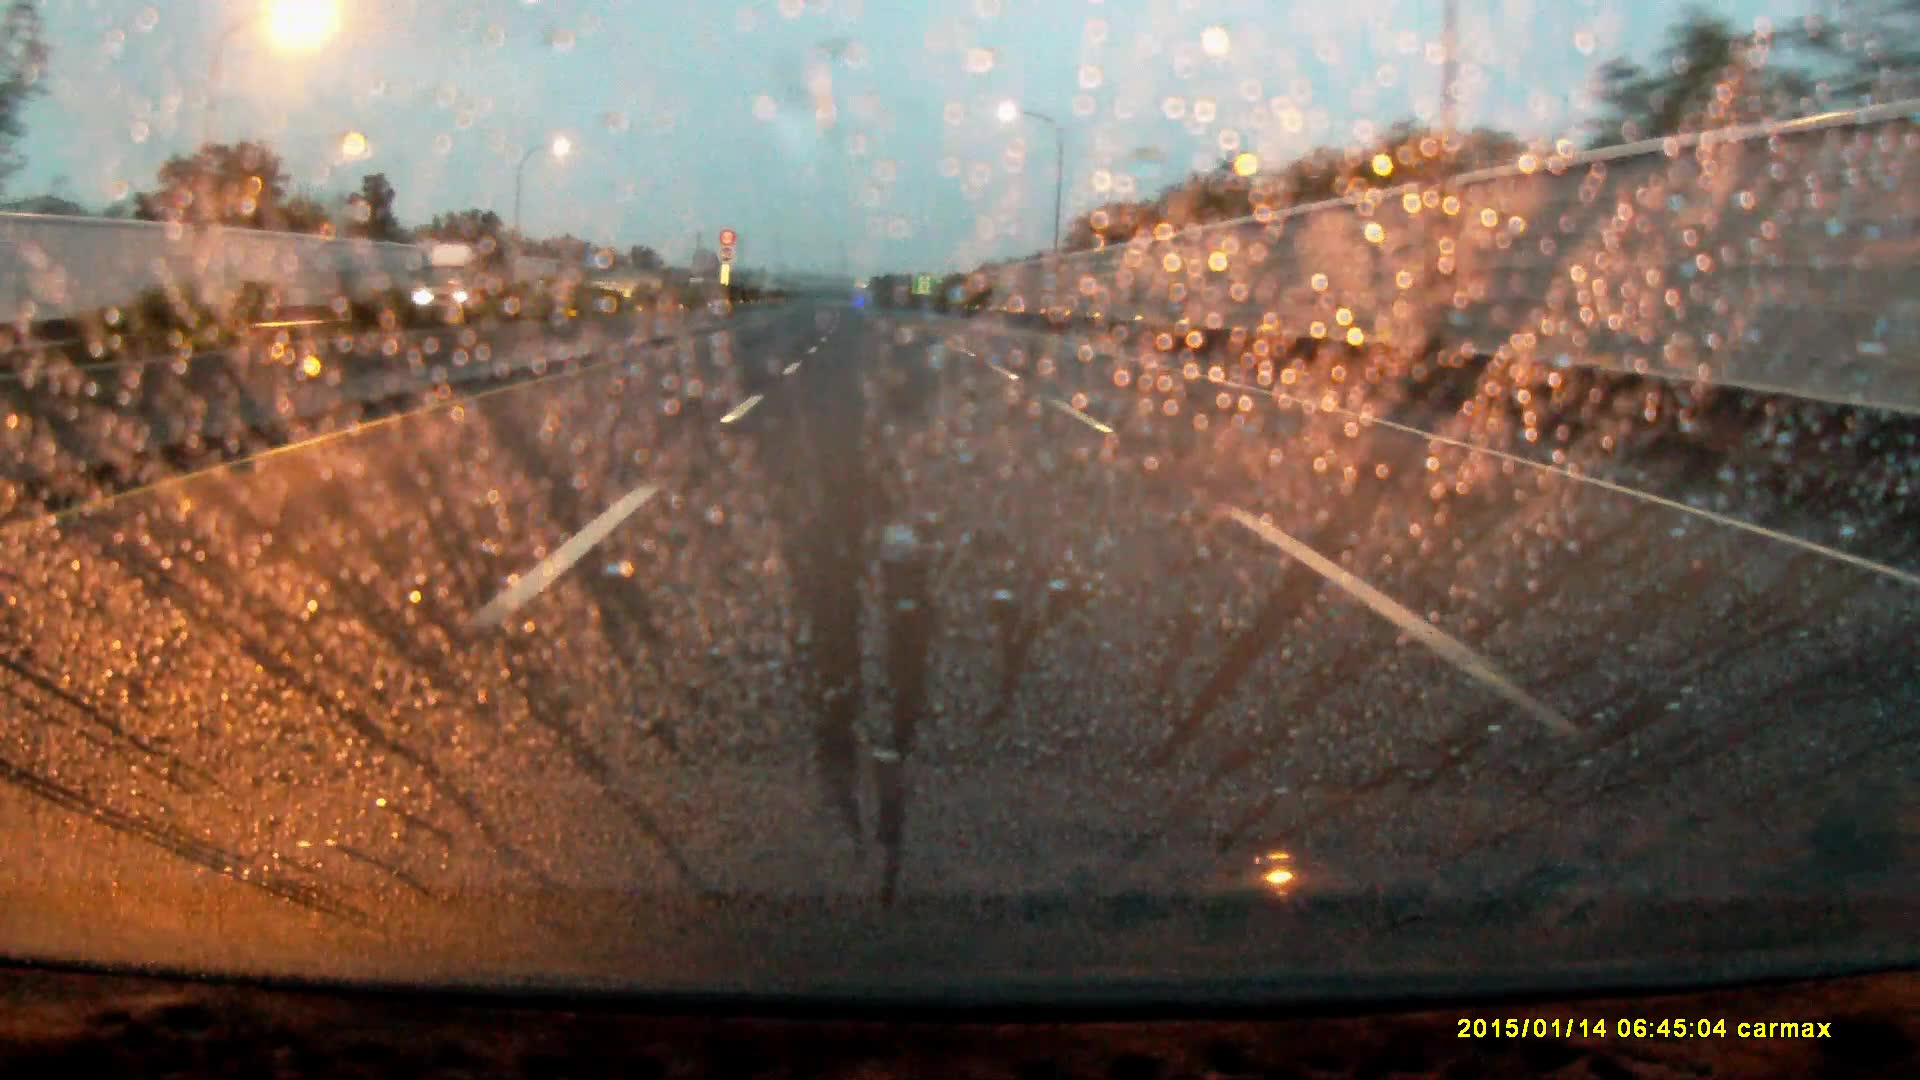vehicle: (414, 243, 517, 315)
